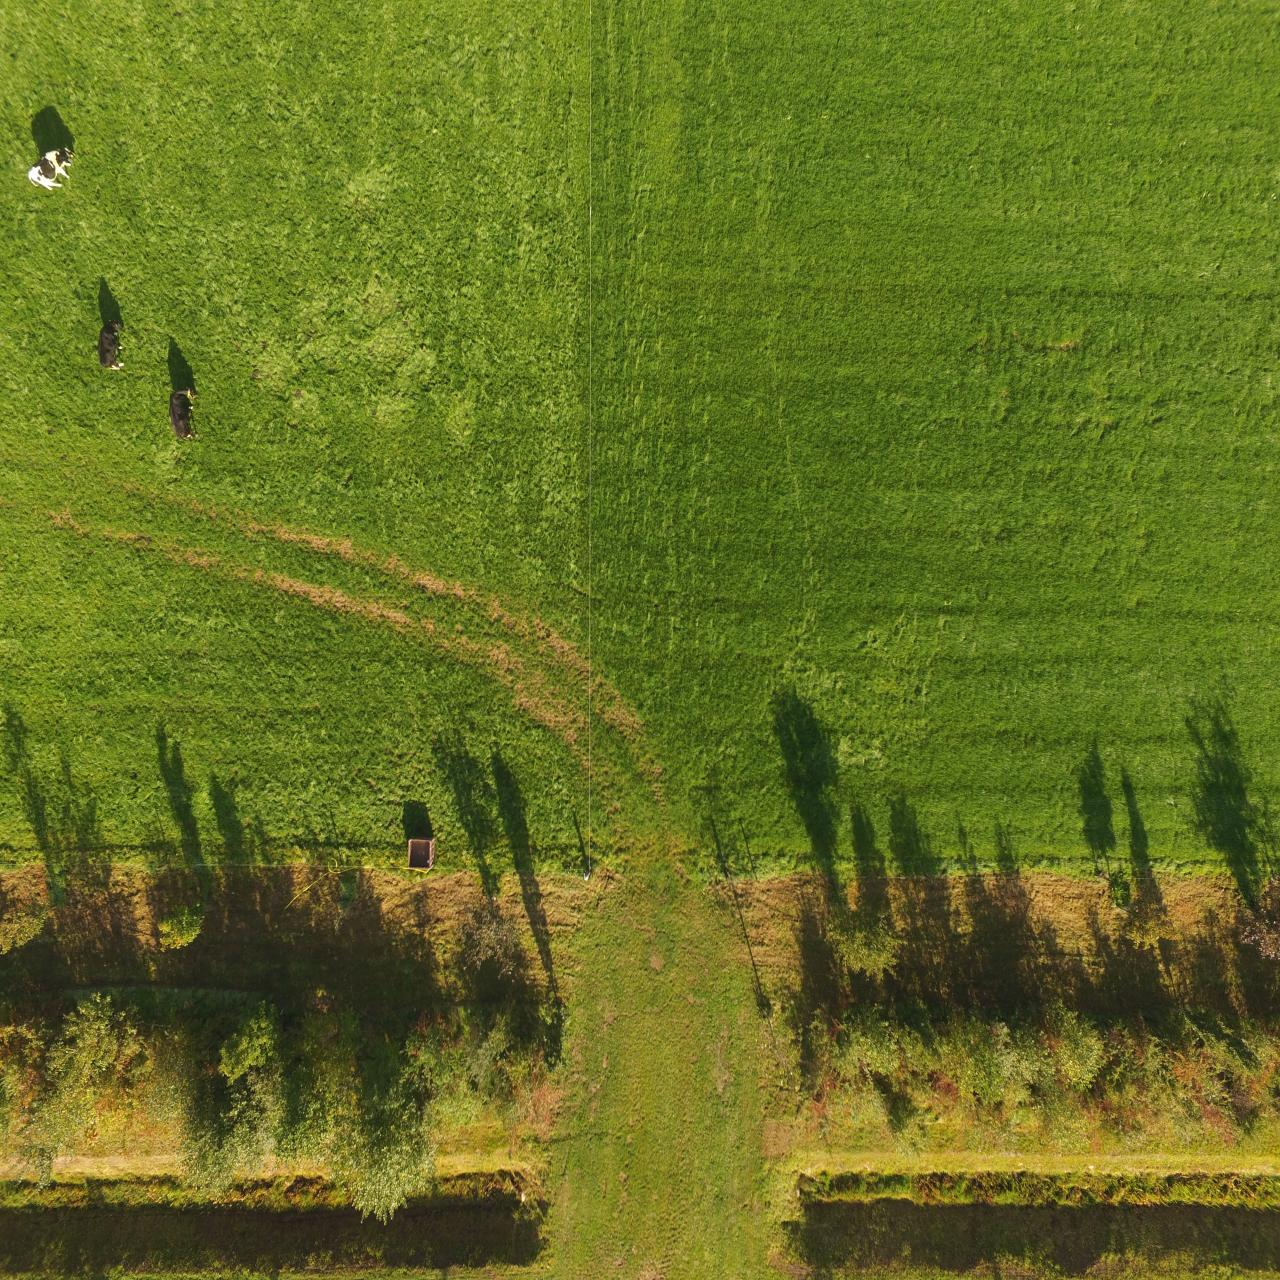cow: (19, 143, 79, 202), (90, 311, 136, 381), (165, 384, 206, 449)
